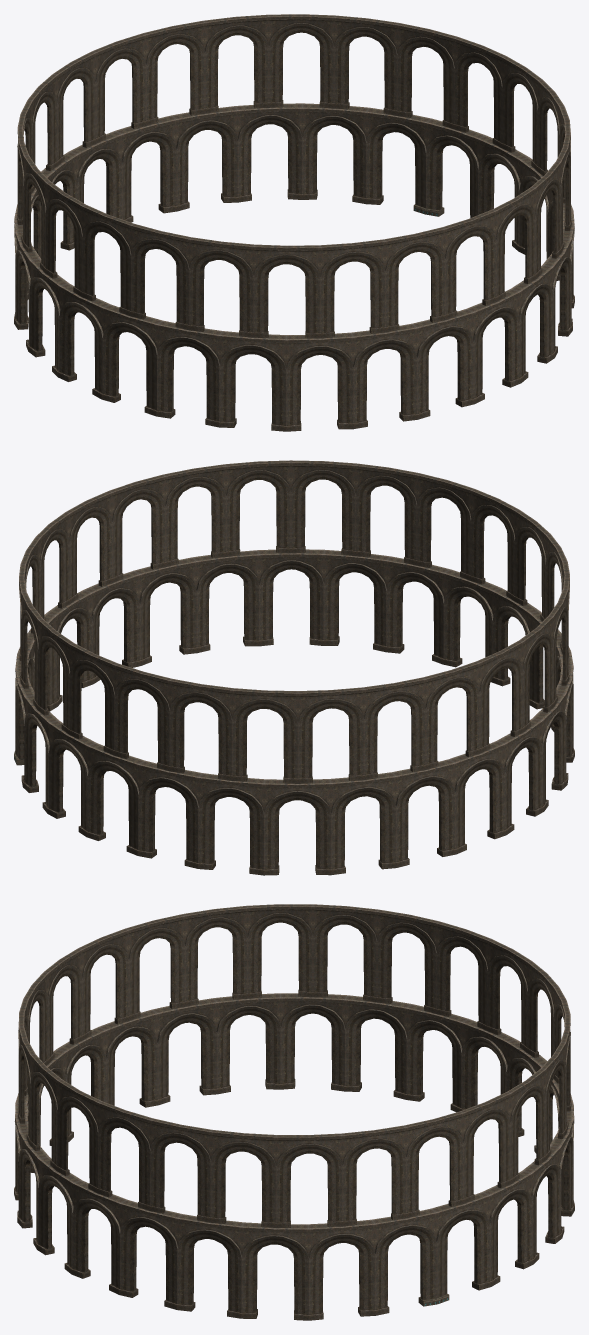
The model's file is miniboss_08.fbx.
The picture shows the model from 3 angles, top to bottom: view 1: azimuth 30°, elevation 25°; view 2: azimuth 150°, elevation 25°; view 3: azimuth 270°, elevation 25°; orthographic projection.
Parts seen in each view (by area): view 1: miniboss_08; view 2: miniboss_08; view 3: miniboss_08.
Part boxes in pixels (x1,y1,x2,y2): miniboss_08: [14, 14, 574, 431]; miniboss_08: [14, 460, 574, 875]; miniboss_08: [14, 904, 574, 1320].
Size of the model in its own units: 252 by 89.61 by 251.
